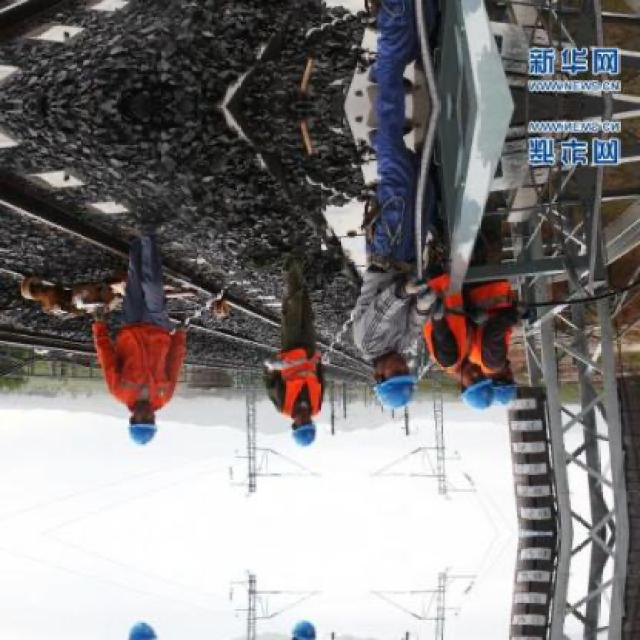con casco: (324, 348, 433, 441), (245, 415, 334, 460), (104, 391, 168, 446), (426, 361, 500, 406), (480, 362, 534, 399)
